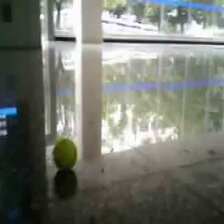tennis: (51, 139, 77, 167)
